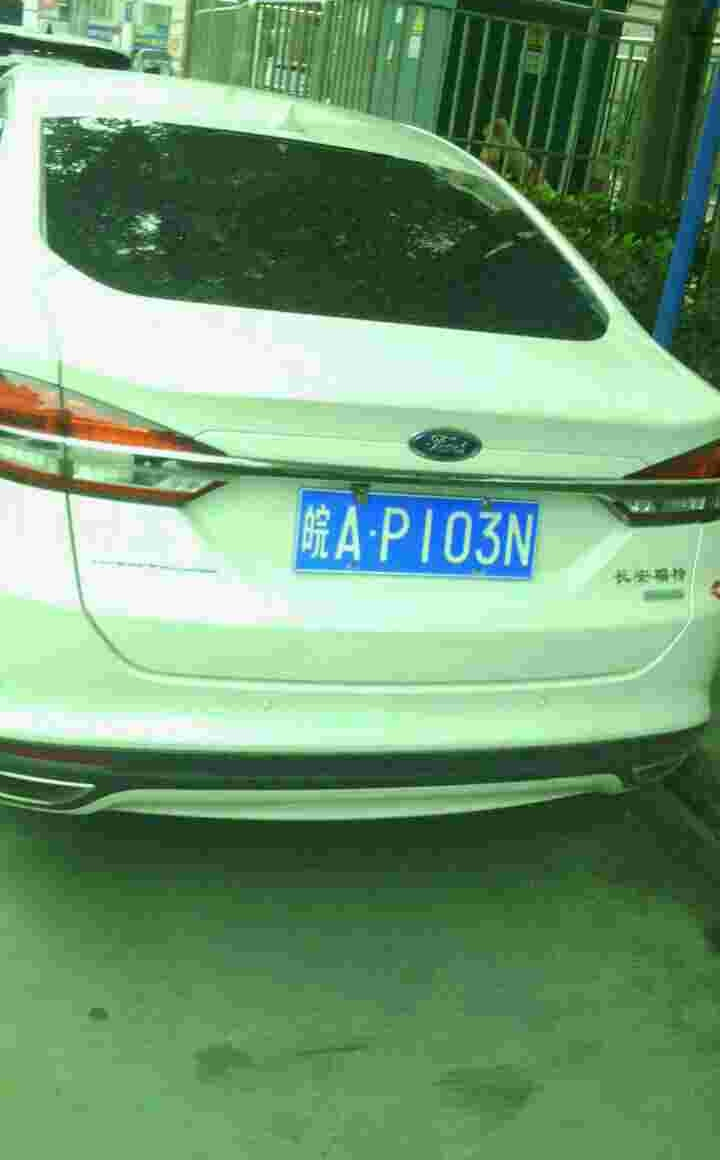license_plate: (301, 490, 544, 580)
